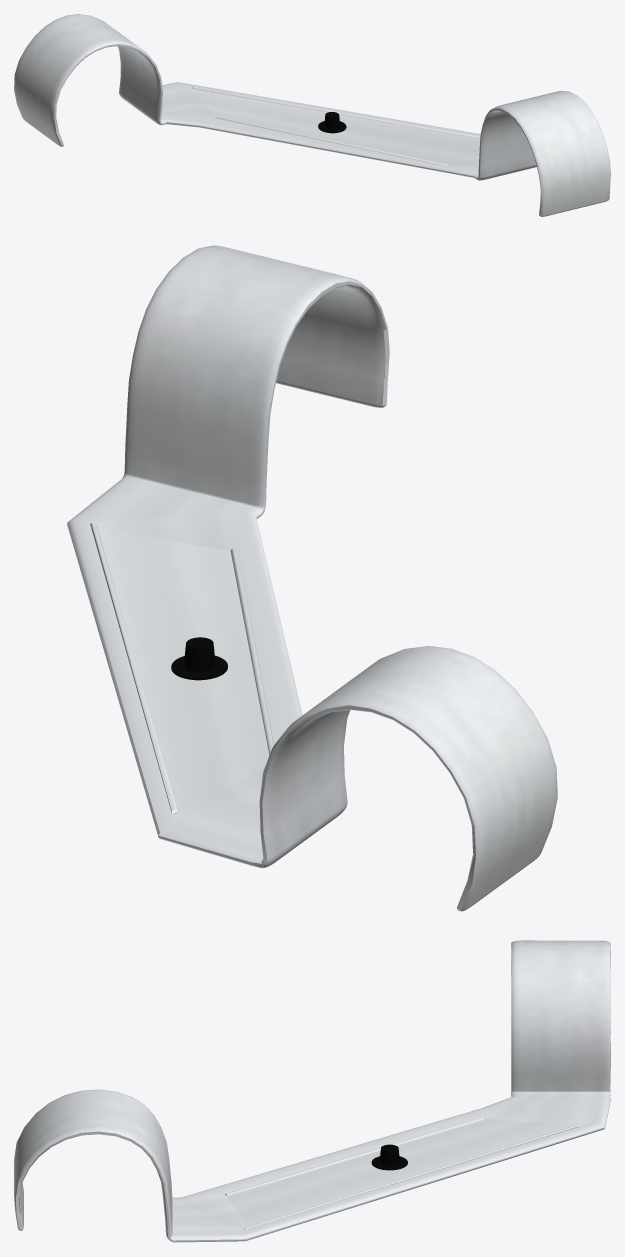
3 renders of one model, top to bottom at view 1: azimuth 30°, elevation 25°; view 2: azimuth 150°, elevation 25°; view 3: azimuth 270°, elevation 25°, orthographic. The views are drawn at different scales.
Visible parts, largest first — view 1: Suppoter, Rubber; view 2: Suppoter, Rubber; view 3: Suppoter, Rubber.
Boxes of the visible parts, bbox=[...] form: Suppoter: bbox=[14, 14, 610, 216]; Rubber: bbox=[318, 112, 346, 133]; Suppoter: bbox=[67, 245, 557, 911]; Rubber: bbox=[171, 637, 227, 680]; Suppoter: bbox=[14, 940, 610, 1242]; Rubber: bbox=[371, 1144, 407, 1170].
Bounding box in the file's own units: 4.84 × 1.25 × 5.7.
2 materials, 1 textured.
